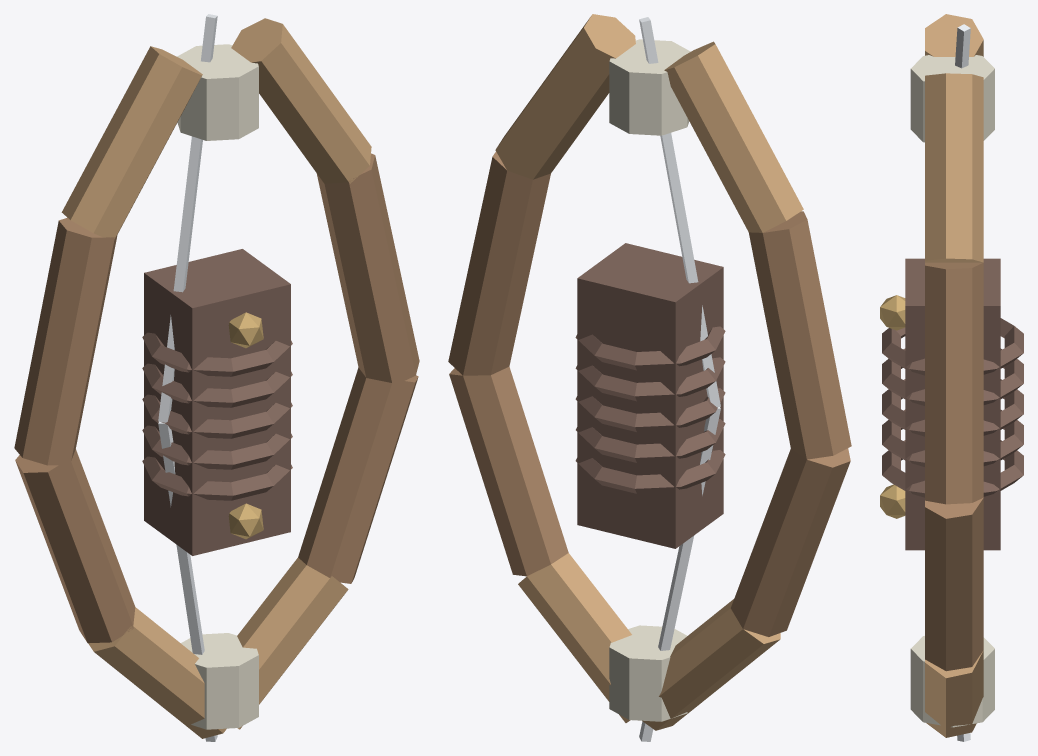
The model's file is hunter_bow.glb.
The picture shows the model from 3 angles, left to right: view 1: azimuth 30°, elevation 25°; view 2: azimuth 150°, elevation 25°; view 3: azimuth 270°, elevation 25°; orthographic projection.
Visible parts, largest first — view 1: WrappedRiser, LeftLimb_2, RightLimb_2, RightLimb_1, LeftLimb_3, LeftLimb_1, RightLimb_3, RightLimb_0, LeftLimb_0, TipCap_0.62, TipCap_-0.52, StringRight (+8 smaller); view 2: WrappedRiser, LeftLimb_2, RightLimb_2, RightLimb_1, LeftLimb_3, LeftLimb_1, RightLimb_3, RightLimb_0, LeftLimb_0, TipCap_0.62, TipCap_-0.52, StringRight (+6 smaller); view 3: RightLimb_2, RightLimb_3, RightLimb_1, WrappedRiser, RightLimb_0, TipCap_0.62, TipCap_-0.52, GripWrap_4.017, LeftLimb_3, GripWrap_0.017, GripWrap_2.017, GripWrap_3.017 (+4 smaller).
Part boxes in pixels (box(x1,y1,x2,y2)): WrappedRiser: box(144, 249, 290, 555); LeftLimb_2: box(14, 217, 117, 465); RightLimb_2: box(316, 153, 419, 382); RightLimb_1: box(298, 367, 418, 583); LeftLimb_3: box(61, 46, 202, 238); LeftLimb_1: box(15, 449, 135, 643); RightLimb_3: box(231, 18, 371, 183); RightLimb_0: box(237, 557, 348, 729); LeftLimb_0: box(88, 607, 226, 738); TipCap_0.62: box(177, 44, 258, 140); TipCap_-0.52: box(181, 633, 258, 729); StringRight: box(158, 14, 217, 422); WrappedRiser: box(577, 243, 723, 548); LeftLimb_2: box(748, 211, 851, 459); RightLimb_2: box(448, 151, 550, 375); RightLimb_1: box(449, 366, 568, 576); LeftLimb_3: box(664, 41, 803, 232); LeftLimb_1: box(730, 448, 850, 636); RightLimb_3: box(495, 14, 635, 179); RightLimb_0: box(518, 553, 631, 722); LeftLimb_0: box(642, 599, 780, 730); TipCap_0.62: box(609, 39, 690, 135); TipCap_-0.52: box(609, 625, 687, 721); StringRight: box(639, 17, 720, 407); RightLimb_2: box(925, 262, 983, 504); RightLimb_3: box(925, 73, 983, 262); RightLimb_1: box(925, 498, 983, 671); WrappedRiser: box(905, 258, 1000, 550); RightLimb_0: box(925, 650, 983, 737); TipCap_0.62: box(910, 55, 994, 142); TipCap_-0.52: box(910, 636, 994, 727); GripWrap_4.017: box(882, 318, 1023, 375); LeftLimb_3: box(925, 14, 983, 56); GripWrap_0.017: box(882, 440, 1023, 497); GripWrap_2.017: box(882, 379, 1023, 436); GripWrap_3.017: box(882, 348, 1023, 405).
Size of the model in its own units: 0.8049 by 1.4 by 0.2563.
